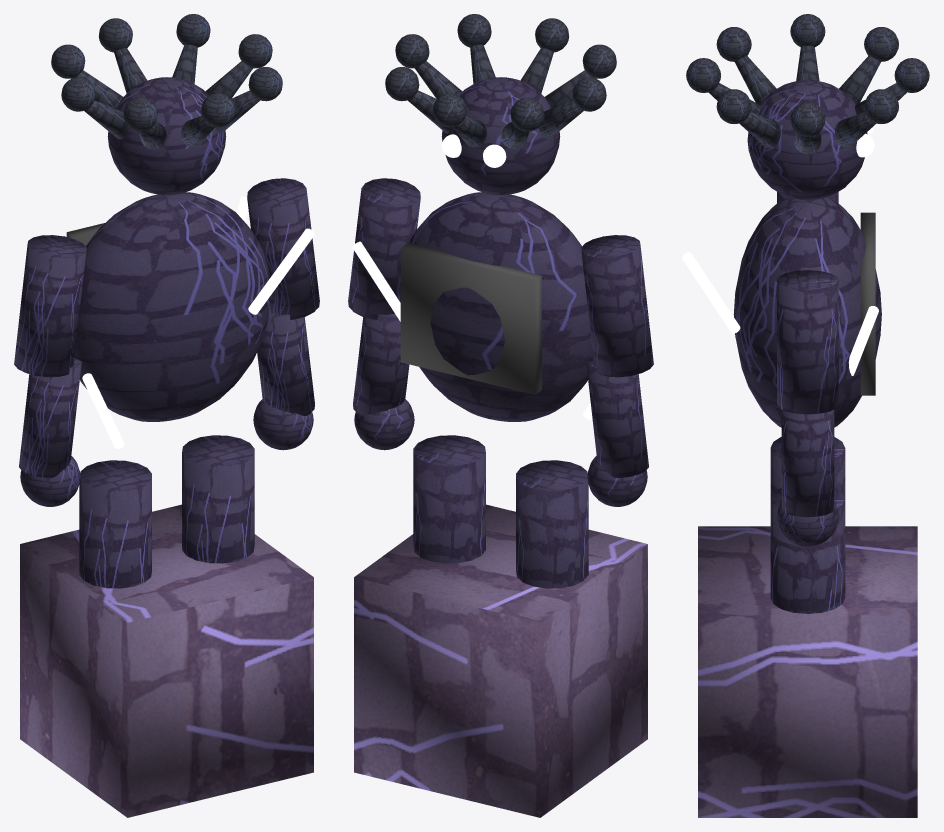
The model's file is typhon.glb.
The picture shows the model from 3 angles, left to right: view 1: azimuth 30°, elevation 25°; view 2: azimuth 150°, elevation 25°; view 3: azimuth 270°, elevation 25°; orthographic projection.
Visible parts, largest first — view 1: Cube, Torso, LegR, LegL, UpperArmL, Head, UpperArmR, ForearmL, ForearmR, FistR, FistL, Bolt2 (+16 smaller); view 2: Cube, Torso, Stormplate, LegR, LegL, UpperArmL, Head, UpperArmR, ForearmL, ForearmR, FistR, FistL (+16 smaller); view 3: Cube, Torso, UpperArmR, Head, LegR, ForearmR, Stormplate, FistR, LegL, Bolt2, CrownHead0, CrownHead7 (+13 smaller).
Boxes of the visible parts, <box> form: Cube: <box>20,504,313,817</box>; Torso: <box>74,192,270,421</box>; LegR: <box>182,435,254,563</box>; LegL: <box>79,460,151,588</box>; UpperArmL: <box>14,235,86,377</box>; Head: <box>107,77,226,195</box>; UpperArmR: <box>247,178,319,319</box>; ForearmL: <box>19,358,81,477</box>; ForearmR: <box>257,312,314,415</box>; FistR: <box>253,399,313,450</box>; FistL: <box>20,456,80,506</box>; Bolt2: <box>248,228,314,314</box>; Cube: <box>354,504,647,817</box>; Torso: <box>397,192,593,421</box>; Stormplate: <box>400,243,541,394</box>; LegR: <box>413,435,485,563</box>; LegL: <box>516,460,588,588</box>; UpperArmL: <box>581,235,653,377</box>; Head: <box>441,77,560,195</box>; UpperArmR: <box>348,178,420,319</box>; ForearmL: <box>586,358,648,477</box>; ForearmR: <box>353,313,409,415</box>; FistR: <box>354,399,414,450</box>; FistL: <box>587,456,647,506</box>; Cube: <box>698,526,917,817</box>; Torso: <box>733,197,881,427</box>; UpperArmR: <box>777,270,838,414</box>; Head: <box>747,80,867,200</box>; LegR: <box>770,488,845,613</box>; ForearmR: <box>781,410,834,517</box>; Stormplate: <box>860,212,875,395</box>; FistR: <box>777,501,838,546</box>; LegL: <box>770,437,845,498</box>; Bolt2: <box>682,252,740,333</box>; CrownHead0: <box>790,102,825,136</box>; CrownHead7: <box>716,89,751,123</box>.
Size of the model in its own units: 2.68 by 6 by 1.89.
Materials: 5 (3 with a texture image).
